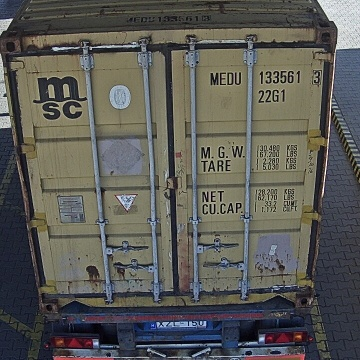serial_id: (211, 69, 321, 85)
